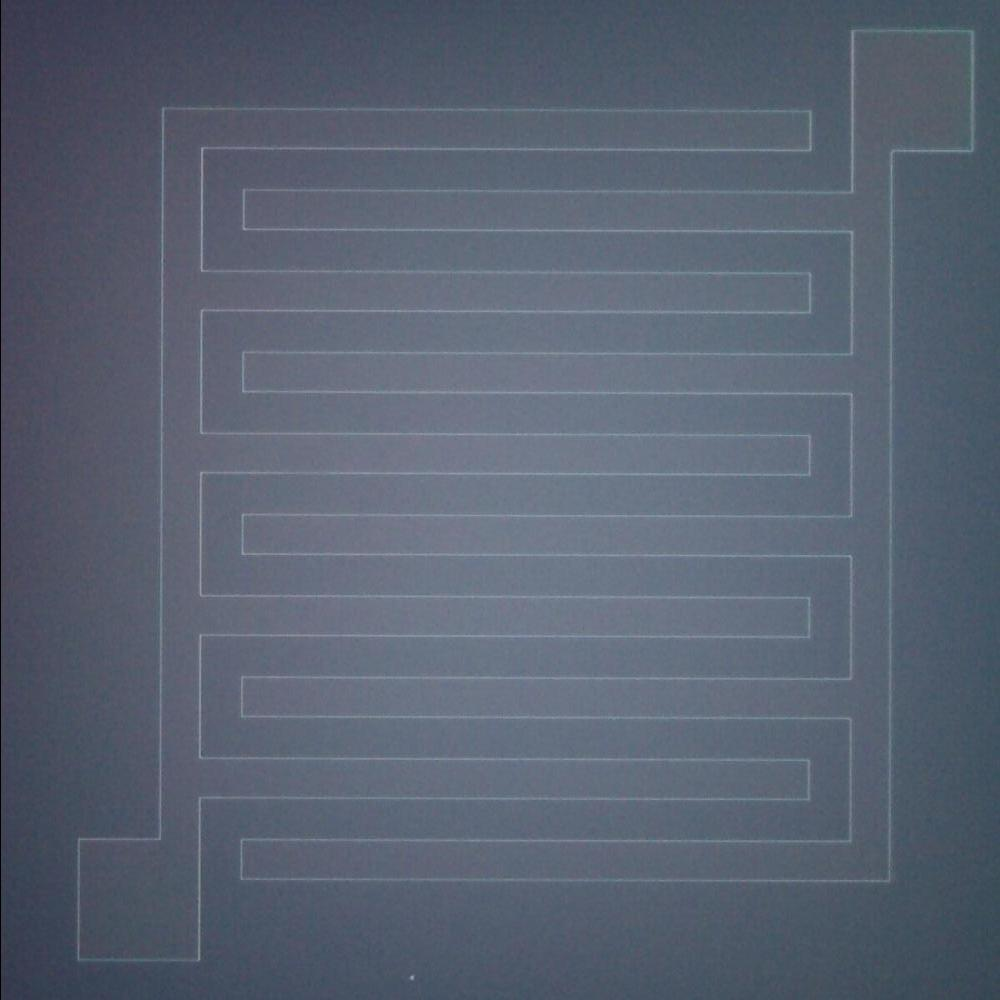dot: (401, 966, 424, 986)
